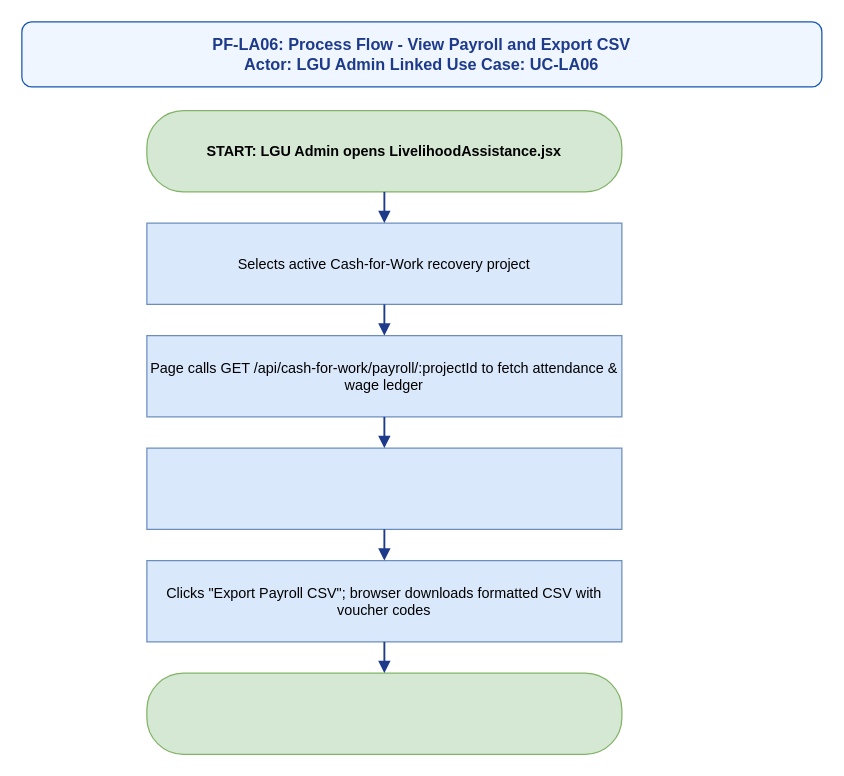
This 844x776 diagram has some shape labels left out. The shapes that lost their labels are listed below. From the top down, each one's centre as x and y in pixels, then its label:
pixel 384 488: Admin verifies total disbursement amount and individual worker attendance days
pixel 384 713: END: Payroll CSV downloaded for COA audit and liquidation filing
